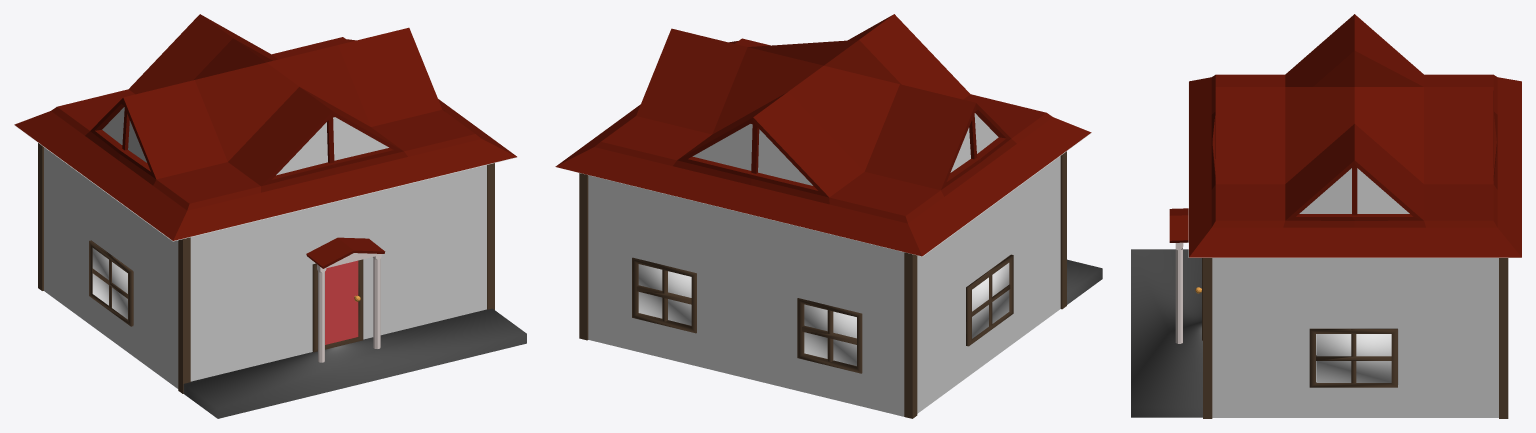
Rendered from BasicHouse2.fbx.
The picture shows the model from 3 angles, left to right: view 1: azimuth 30°, elevation 25°; view 2: azimuth 150°, elevation 25°; view 3: azimuth 270°, elevation 25°; orthographic projection. The views are drawn at different scales.
Visible parts, largest first — view 1: Cube, Walls, Glass; view 2: Cube, Walls, Glass; view 3: Cube, Walls, Glass.
Boxes of the visible parts, left/top/right/bottom form: Cube: left=14, top=14, right=526, bottom=418; Walls: left=14, top=107, right=517, bottom=388; Glass: left=92, top=248, right=127, bottom=319; Cube: left=555, top=14, right=1102, bottom=418; Walls: left=557, top=113, right=1091, bottom=416; Glass: left=638, top=263, right=1009, bottom=365; Cube: left=1131, top=14, right=1521, bottom=418; Walls: left=1188, top=82, right=1520, bottom=417; Glass: left=1316, top=334, right=1391, bottom=382.
Size of the model in its own units: 1116 by 744 by 1046.
